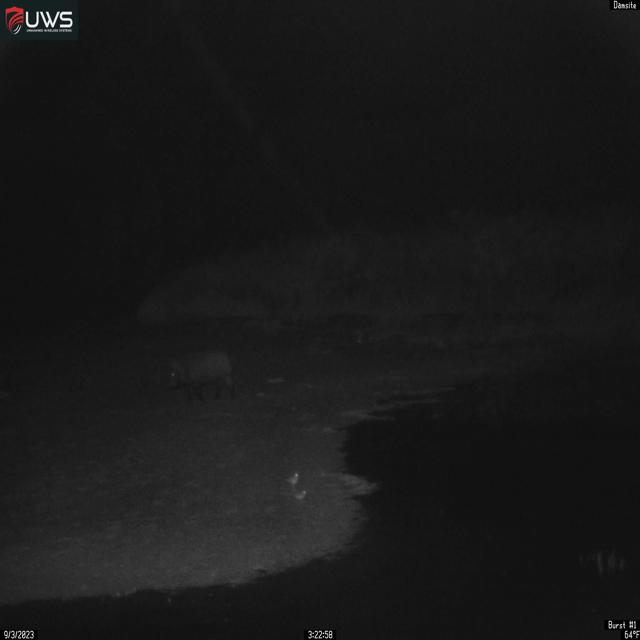pig: (165, 348, 237, 403)
